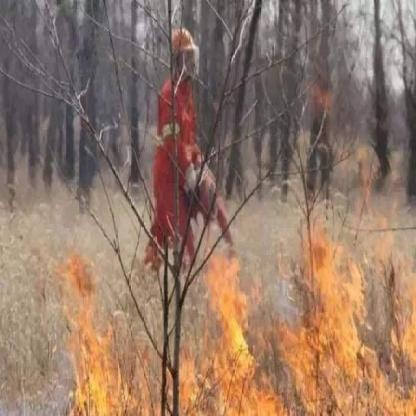fire: (49, 152, 412, 410)
